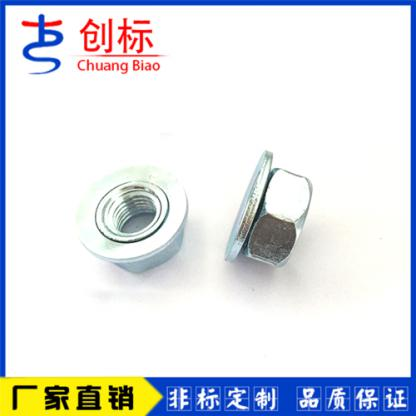FOD: (68, 165, 193, 276), (221, 148, 321, 272)
